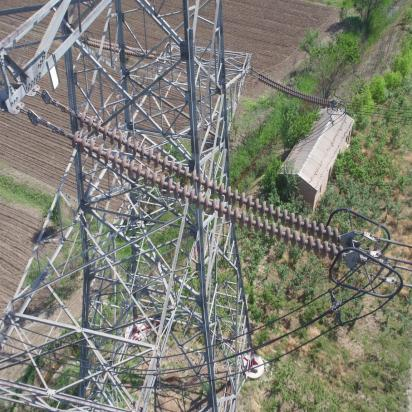insulator: (57, 110, 352, 266), (254, 69, 334, 108)
